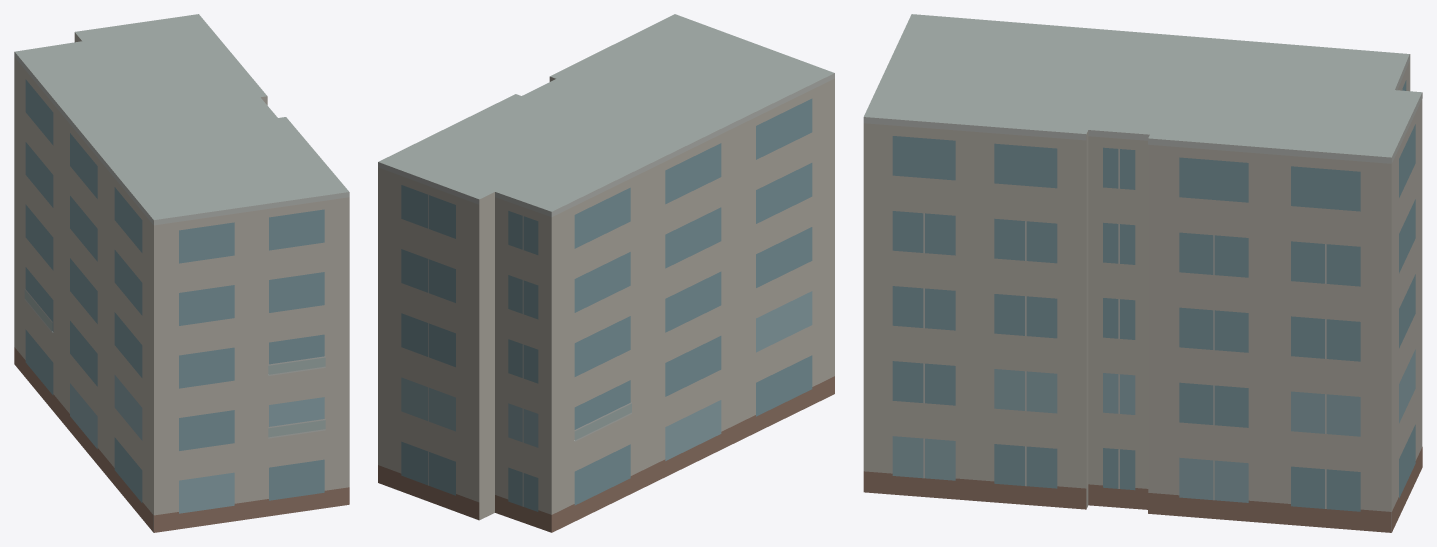
The model's file is survey-upis-32654062.glb.
3 renders of one model, left to right at view 1: azimuth 30°, elevation 25°; view 2: azimuth 150°, elevation 25°; view 3: azimuth 270°, elevation 25°, orthographic. The views are drawn at different scales.
Parts seen in each view (by area): view 1: survey-upis-32654062.tmp; view 2: survey-upis-32654062.tmp; view 3: survey-upis-32654062.tmp.
Part boxes in pixels (x1,y1,x2,y2): survey-upis-32654062.tmp: (14, 14, 349, 532); survey-upis-32654062.tmp: (378, 14, 834, 532); survey-upis-32654062.tmp: (863, 14, 1422, 532).
Size of the model in its own units: 11.9 by 14.5 by 19.58.
